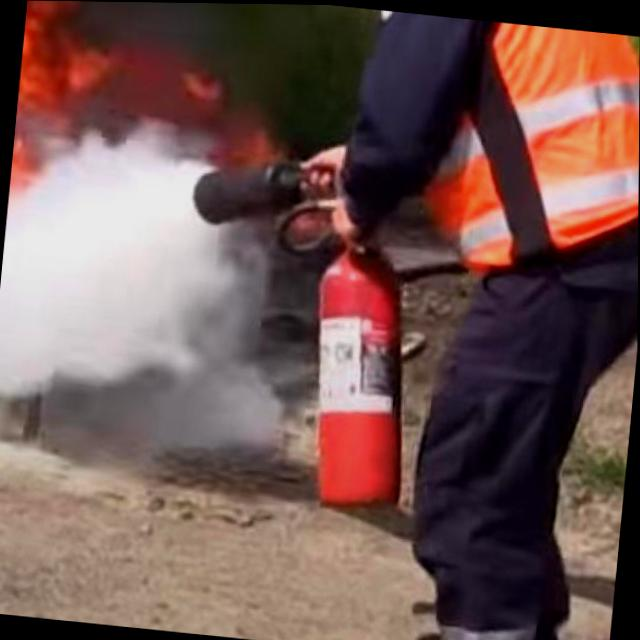FireExtinguisher: (158, 133, 445, 520)
